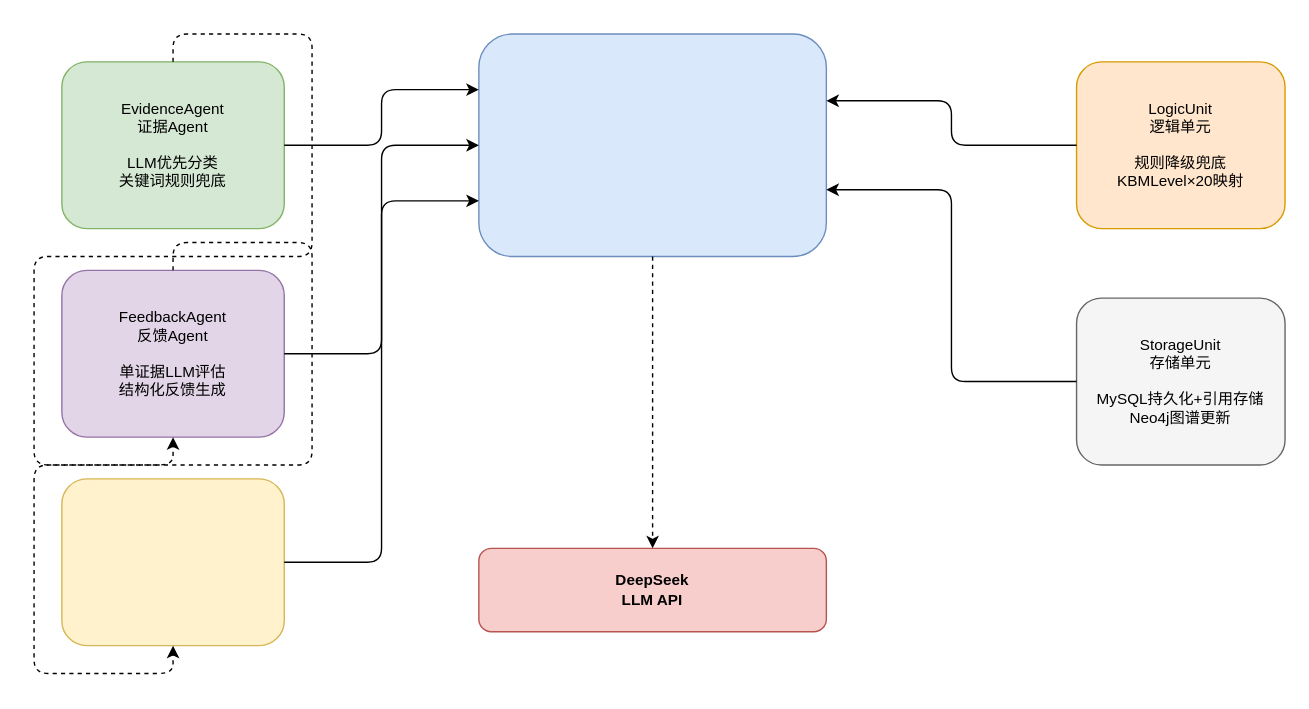
Image size: 1309x709. Some labels were removed from this diagram. The centre of each missing label's shape, as x and y in pixels:
"ControlUnit （控制单元 — 编排引擎） 负责： • 评估请求接收与调度 • 多Agent协作编排 • 报告生成" goes at pixel 651 144.
"InferenceAgent 推理Agent LLM主导多维推理 证据引用提取+规则降级" goes at pixel 172 561.
